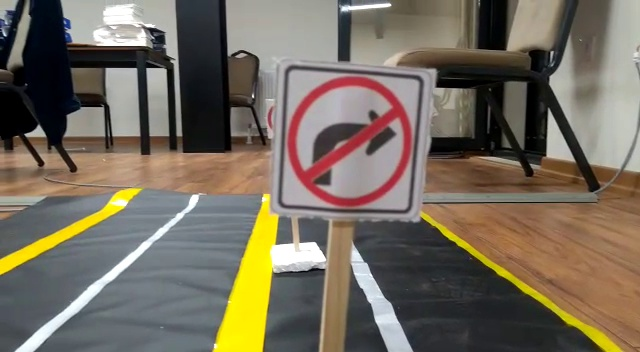saga_donulmez: (288, 71, 417, 213)
